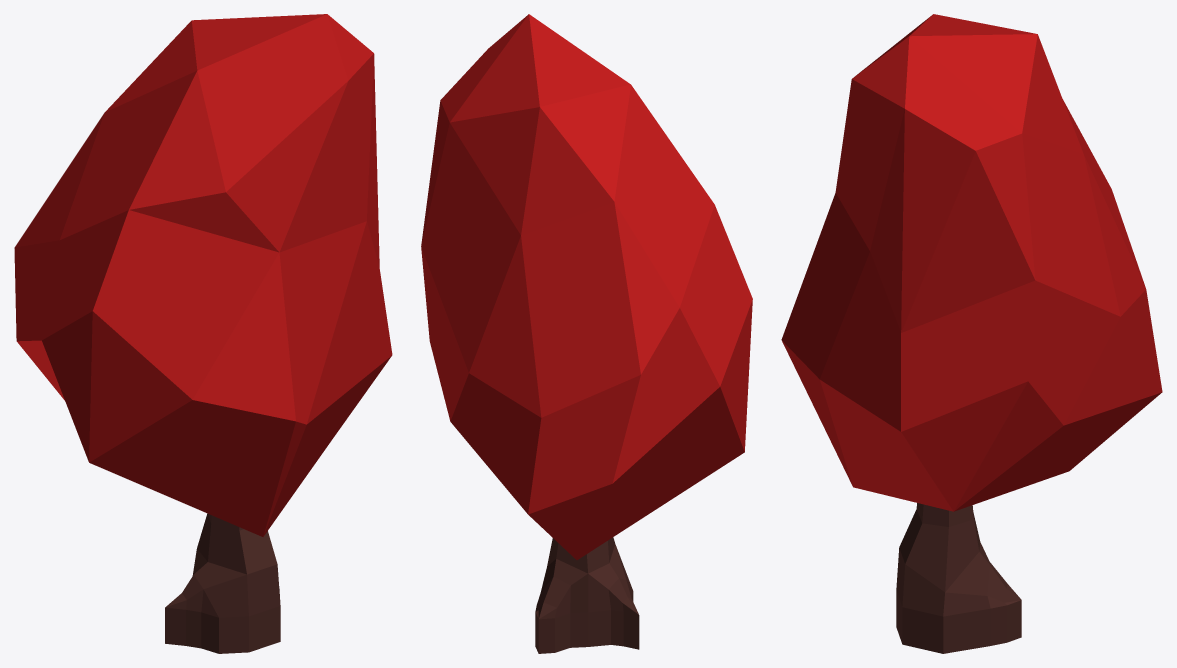
File: tree_5.fbx
The picture shows the model from 3 angles, left to right: view 1: azimuth 30°, elevation 25°; view 2: azimuth 150°, elevation 25°; view 3: azimuth 270°, elevation 25°; orthographic projection. The views are drawn at different scales.
Parts seen in each view (by area): view 1: tree_5; view 2: tree_5; view 3: tree_5.
Boxes of the visible parts, x1=… form: tree_5: x1=14, y1=14, x2=392, y2=653; tree_5: x1=421, y1=14, x2=752, y2=653; tree_5: x1=781, y1=14, x2=1162, y2=653.
Size of the model in its own units: 220 by 424 by 231.
